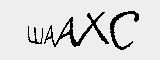А: (54, 14, 78, 51), (42, 24, 56, 50)
С: (110, 8, 141, 51)
Х: (75, 10, 109, 49)
Ш: (25, 24, 44, 44)
